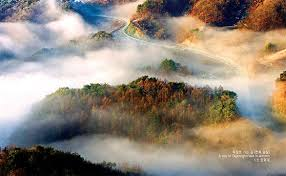mountain: (3, 4, 284, 173)
